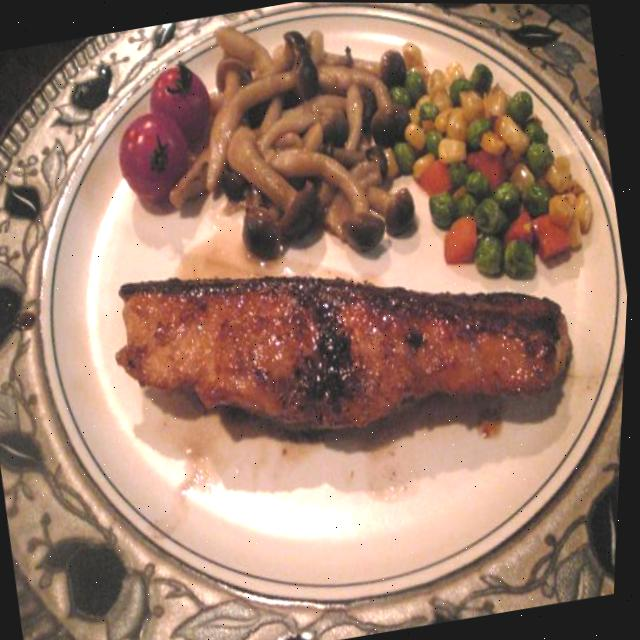熟制海鲜: (91, 176, 620, 517)
